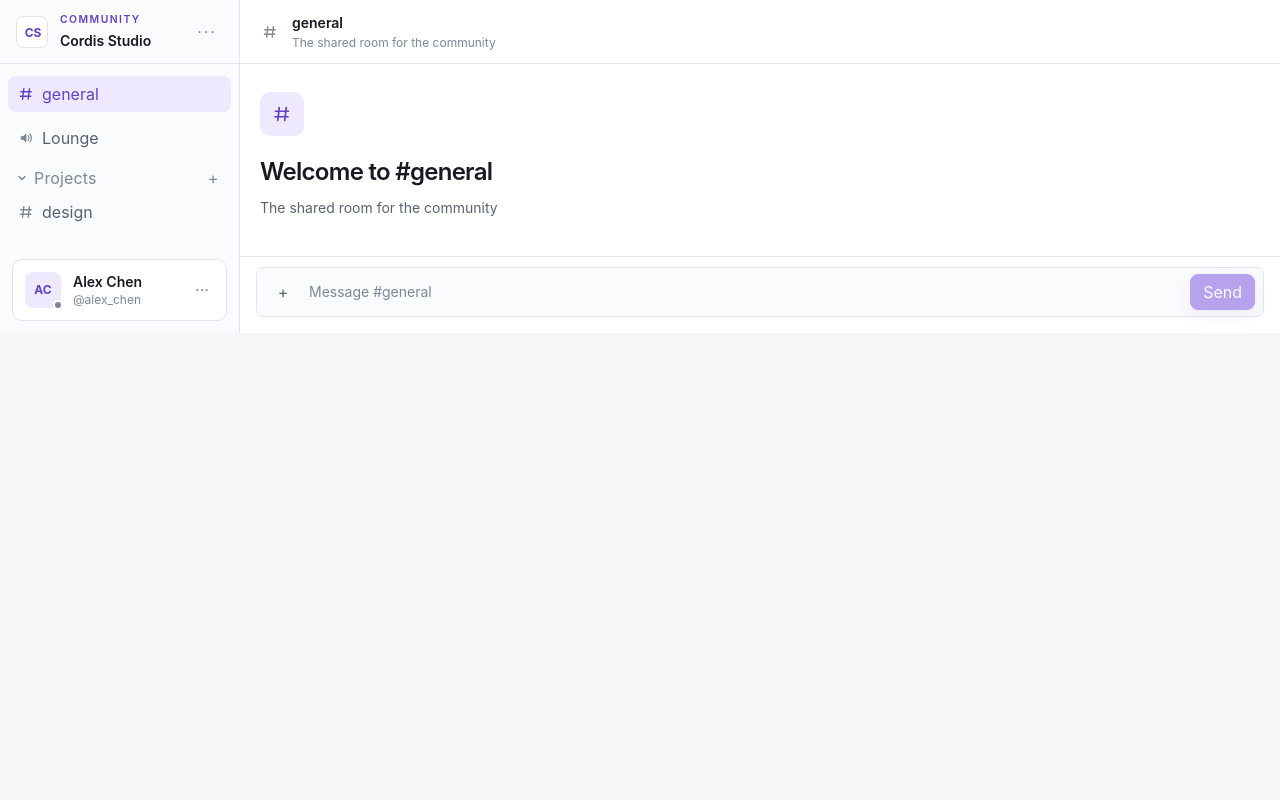
GuildPage › creates only text or voice channels inside a category and selects the result
Click the button named "Create a channel in Projects": (213, 178) top-left (199, 164), bottom-right (227, 192)
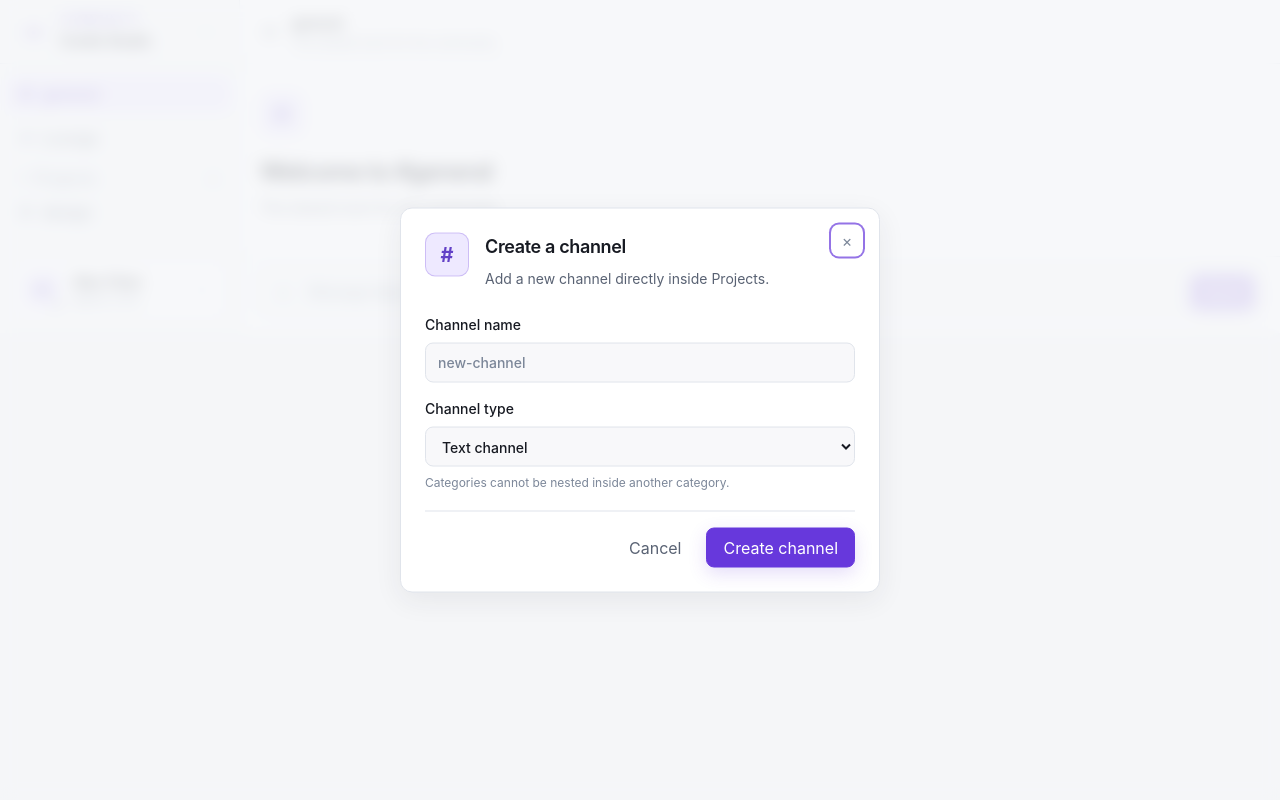
Expected: the dialog is shown, top-left (400, 208), bottom-right (880, 592)
In the field labelled "Channel name": (640, 362) top-left (425, 342), bottom-right (855, 382), type "standup"
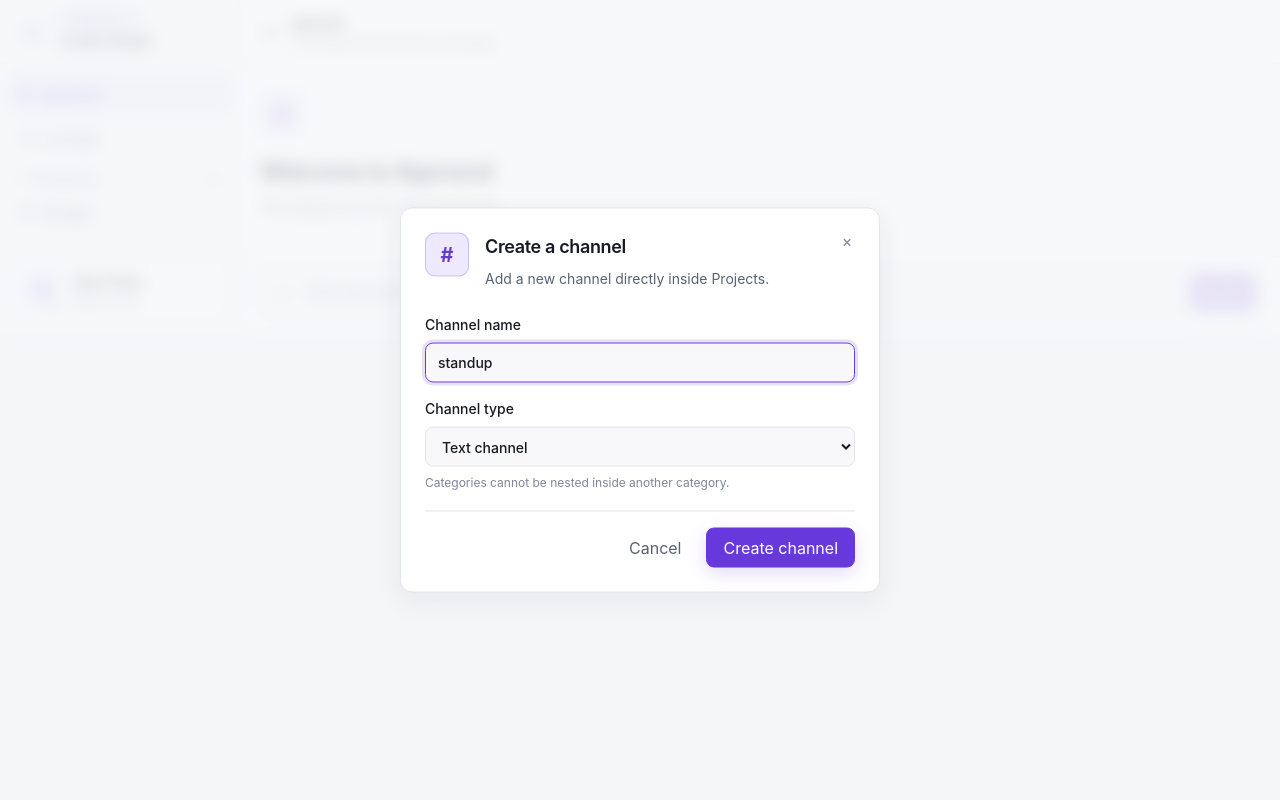
Select "Voice channel" in the dropdown labelled "Channel type": (640, 446) top-left (425, 426), bottom-right (855, 466)
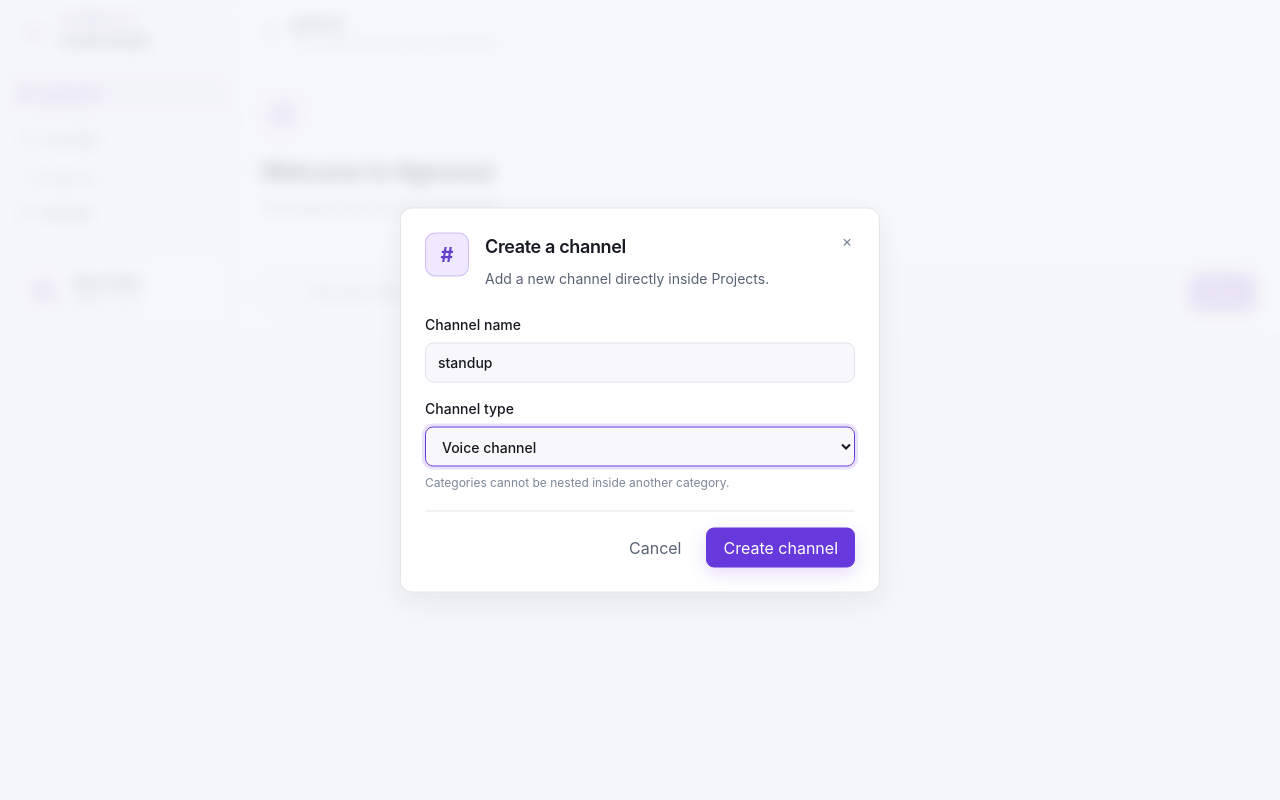
Click the button "Create channel": (781, 548) top-left (706, 528), bottom-right (855, 568)
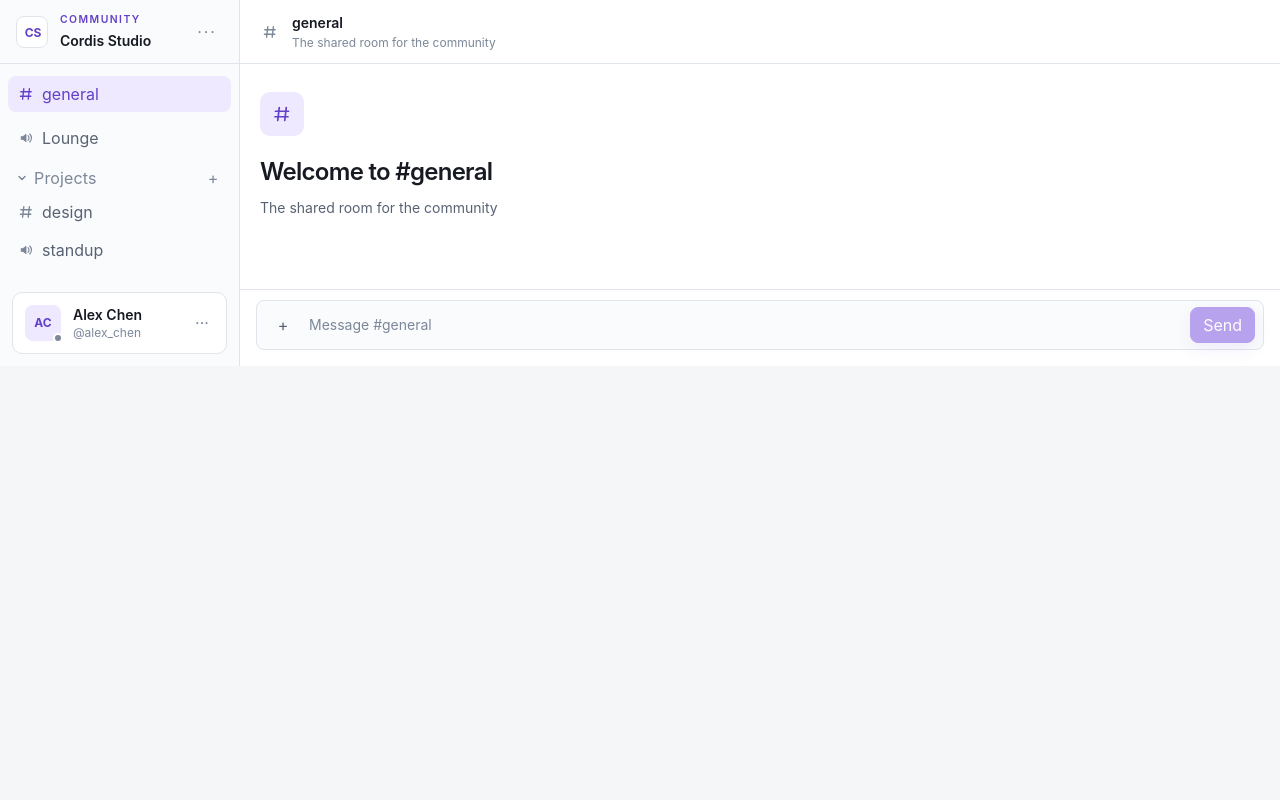
Expected: the dialog is gone
